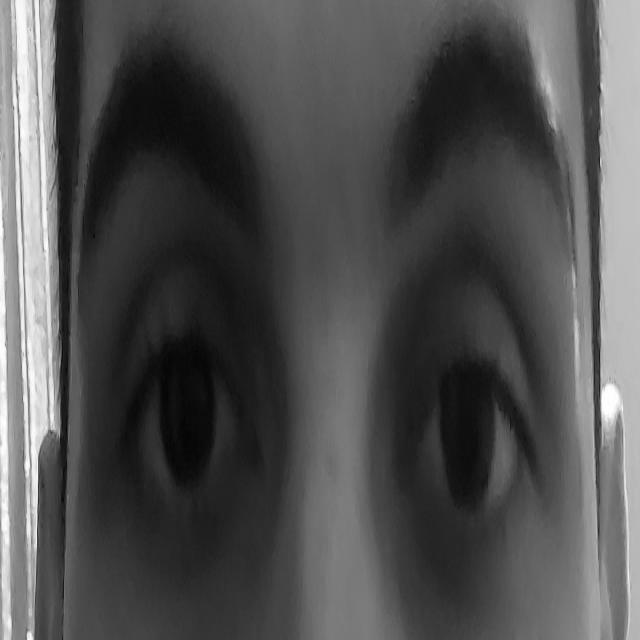real: (104, 91, 552, 598)
